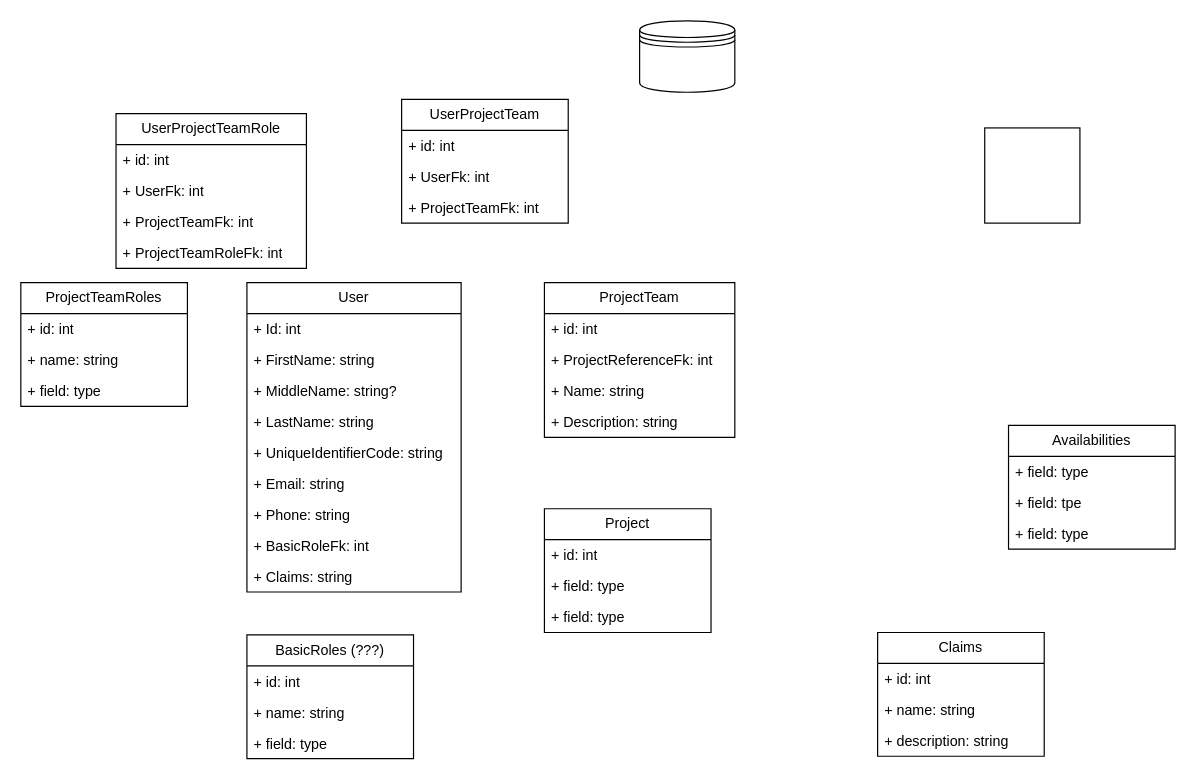
Some shapes in this 1196 by 783 pixel diagram are drawn without their labels. The centre of each missing label's shape, as x and y in pixels:
"Company Management" goes at (686,56).
"Documents" goes at (1032,175).
